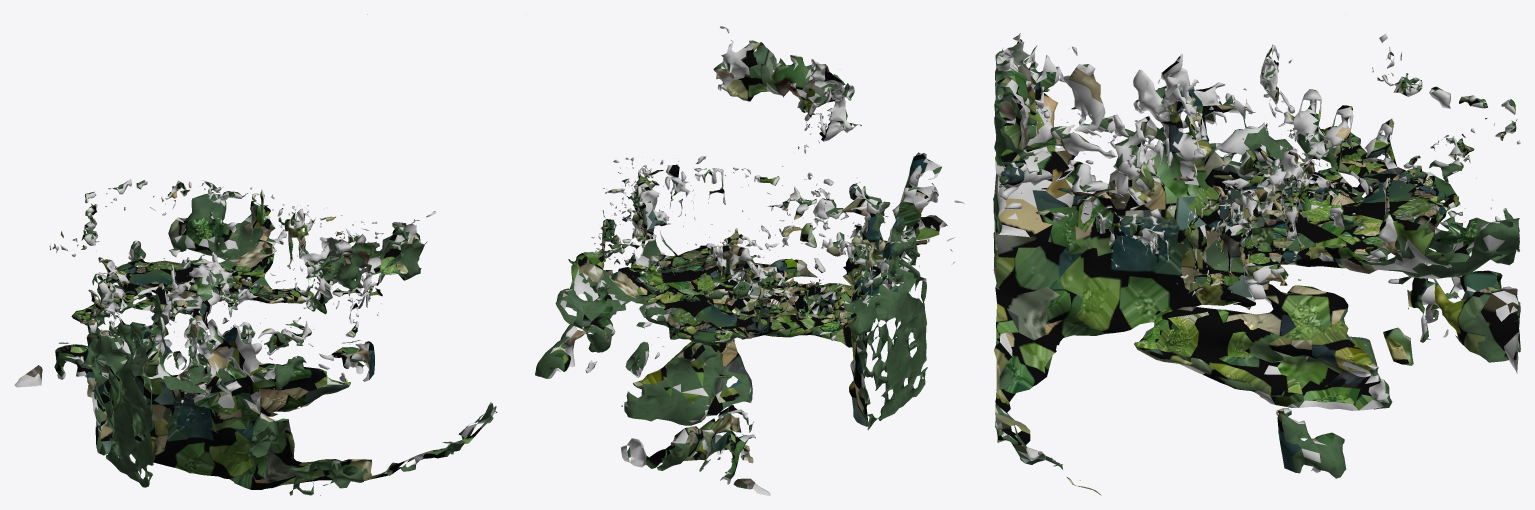
Rendered from gardenPartyFProject_lowpoly.obj.
3 views of the same model, side by side, from view 1: azimuth 30°, elevation 25°; view 2: azimuth 150°, elevation 25°; view 3: azimuth 270°, elevation 25° (orthographic). The views are drawn at different scales.
Bounding box in the file's own units: 4.01 × 4 × 4.05.
